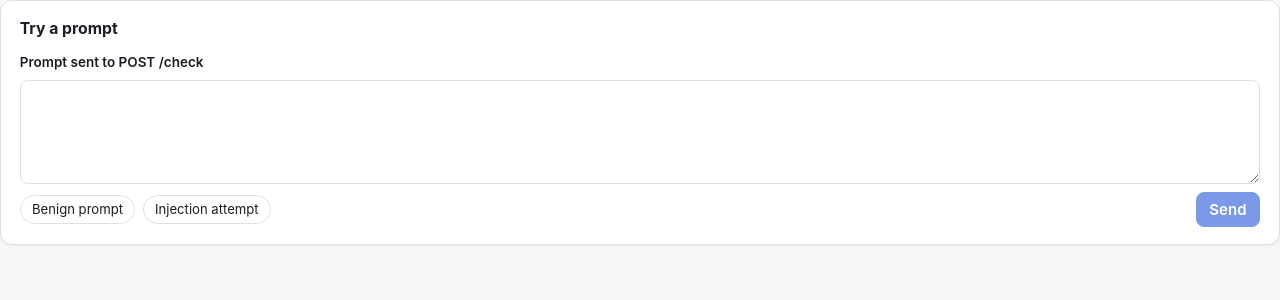
it: PromptTester › reports gateway errors
In the text box labelled "Prompt sent to POST /check": (640, 132) [20, 80, 1260, 184], type "hello"
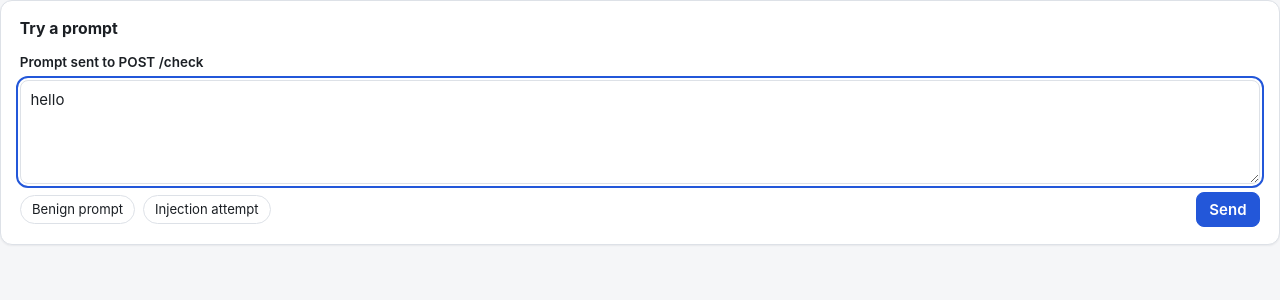
Click the button "Send": (1228, 210) [1196, 192, 1260, 227]
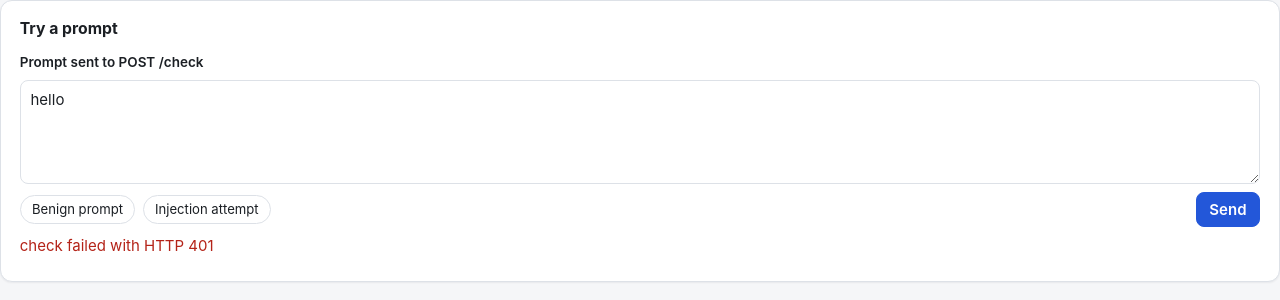
Expected: the message reads "check failed with HTTP 401", [20, 236, 214, 255]
